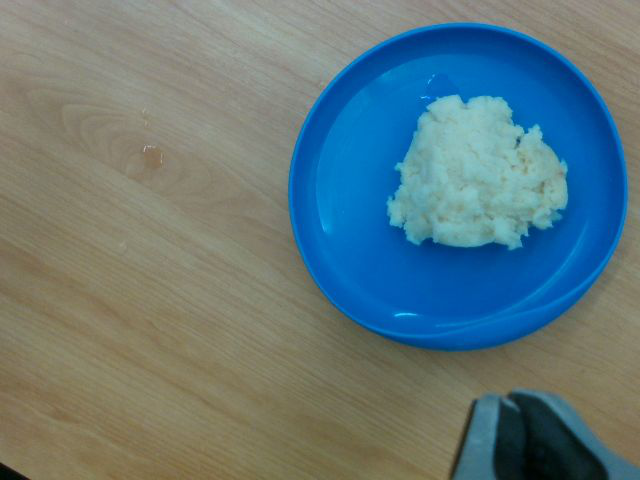mashed_potato: (388, 96, 570, 250)
